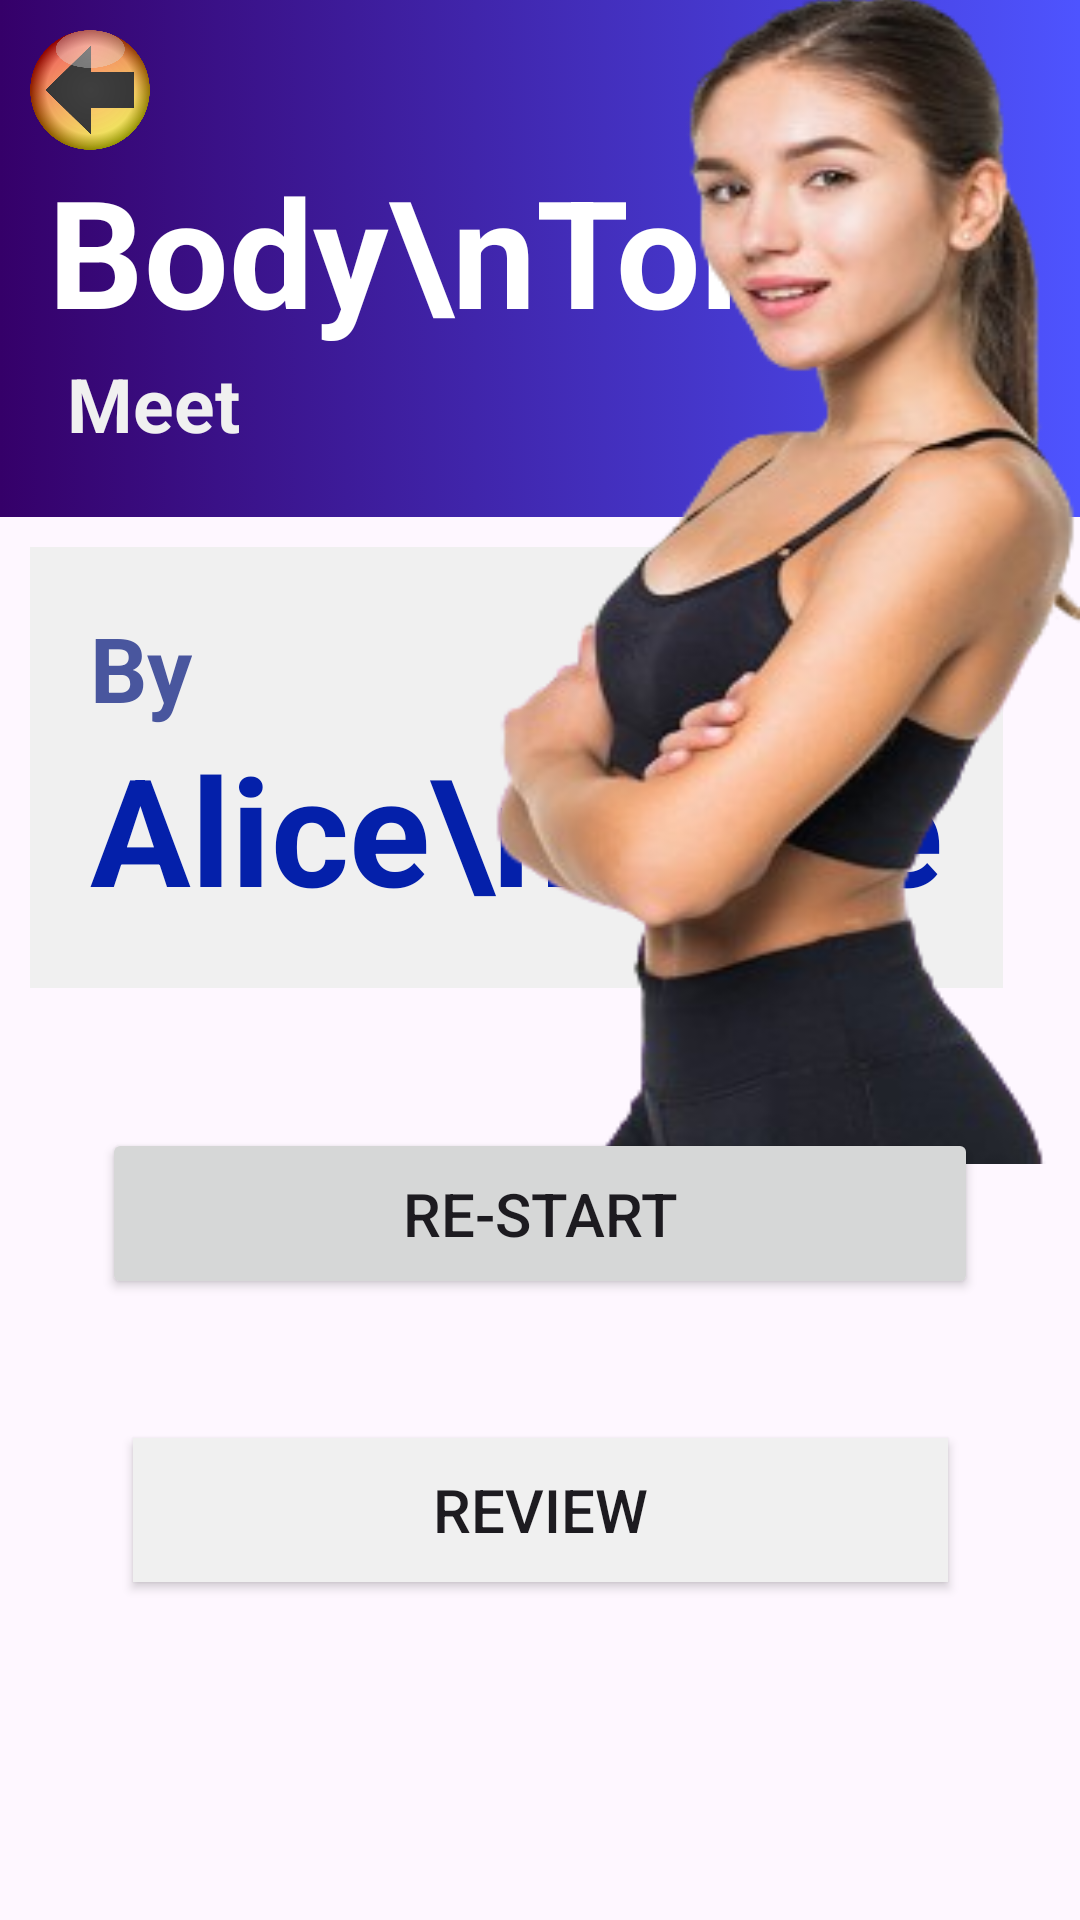

Named icons in this screenshot (1080 × 1920) and their centers, point (x, y):
back: point (90, 90)
